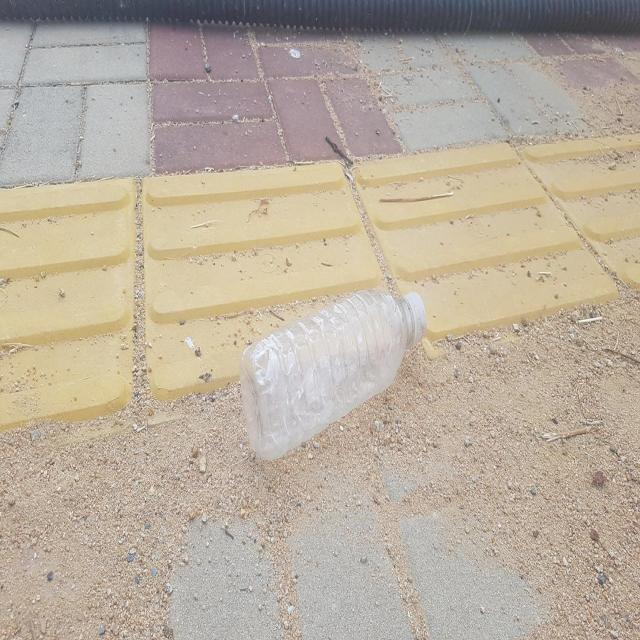plastic: (240, 289, 427, 459)
